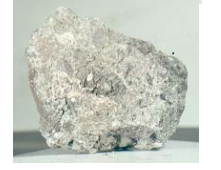Breccia: (20, 12, 186, 147), (57, 32, 147, 129)
